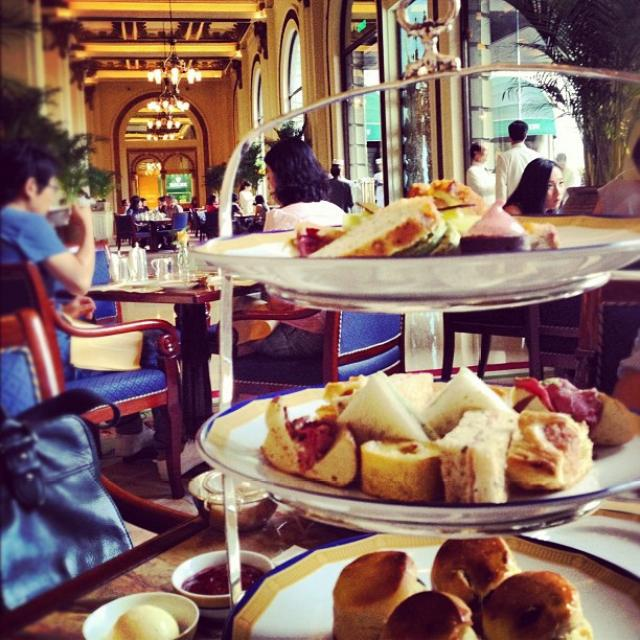chair: (232, 305, 407, 407), (439, 304, 551, 385), (94, 249, 122, 317), (112, 211, 153, 252), (158, 212, 190, 252), (190, 208, 199, 234)
dining table: (93, 274, 223, 435), (232, 214, 256, 225), (155, 220, 171, 225)
